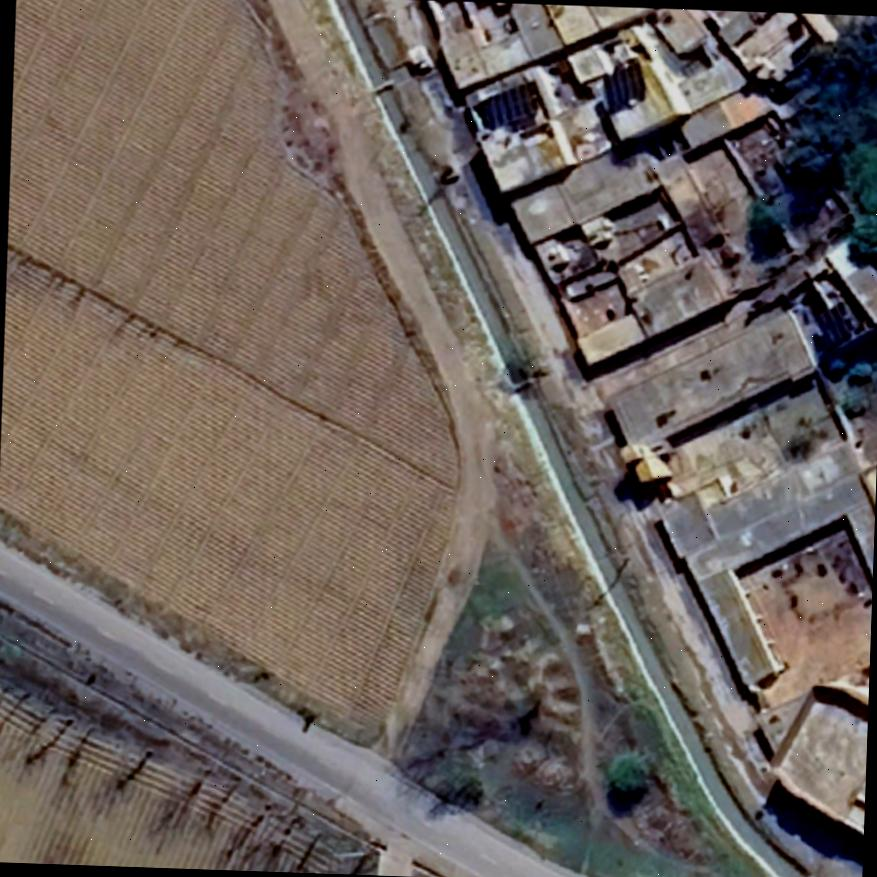Solarpanel: (480, 83, 536, 132), (600, 58, 642, 116), (811, 301, 859, 350)
